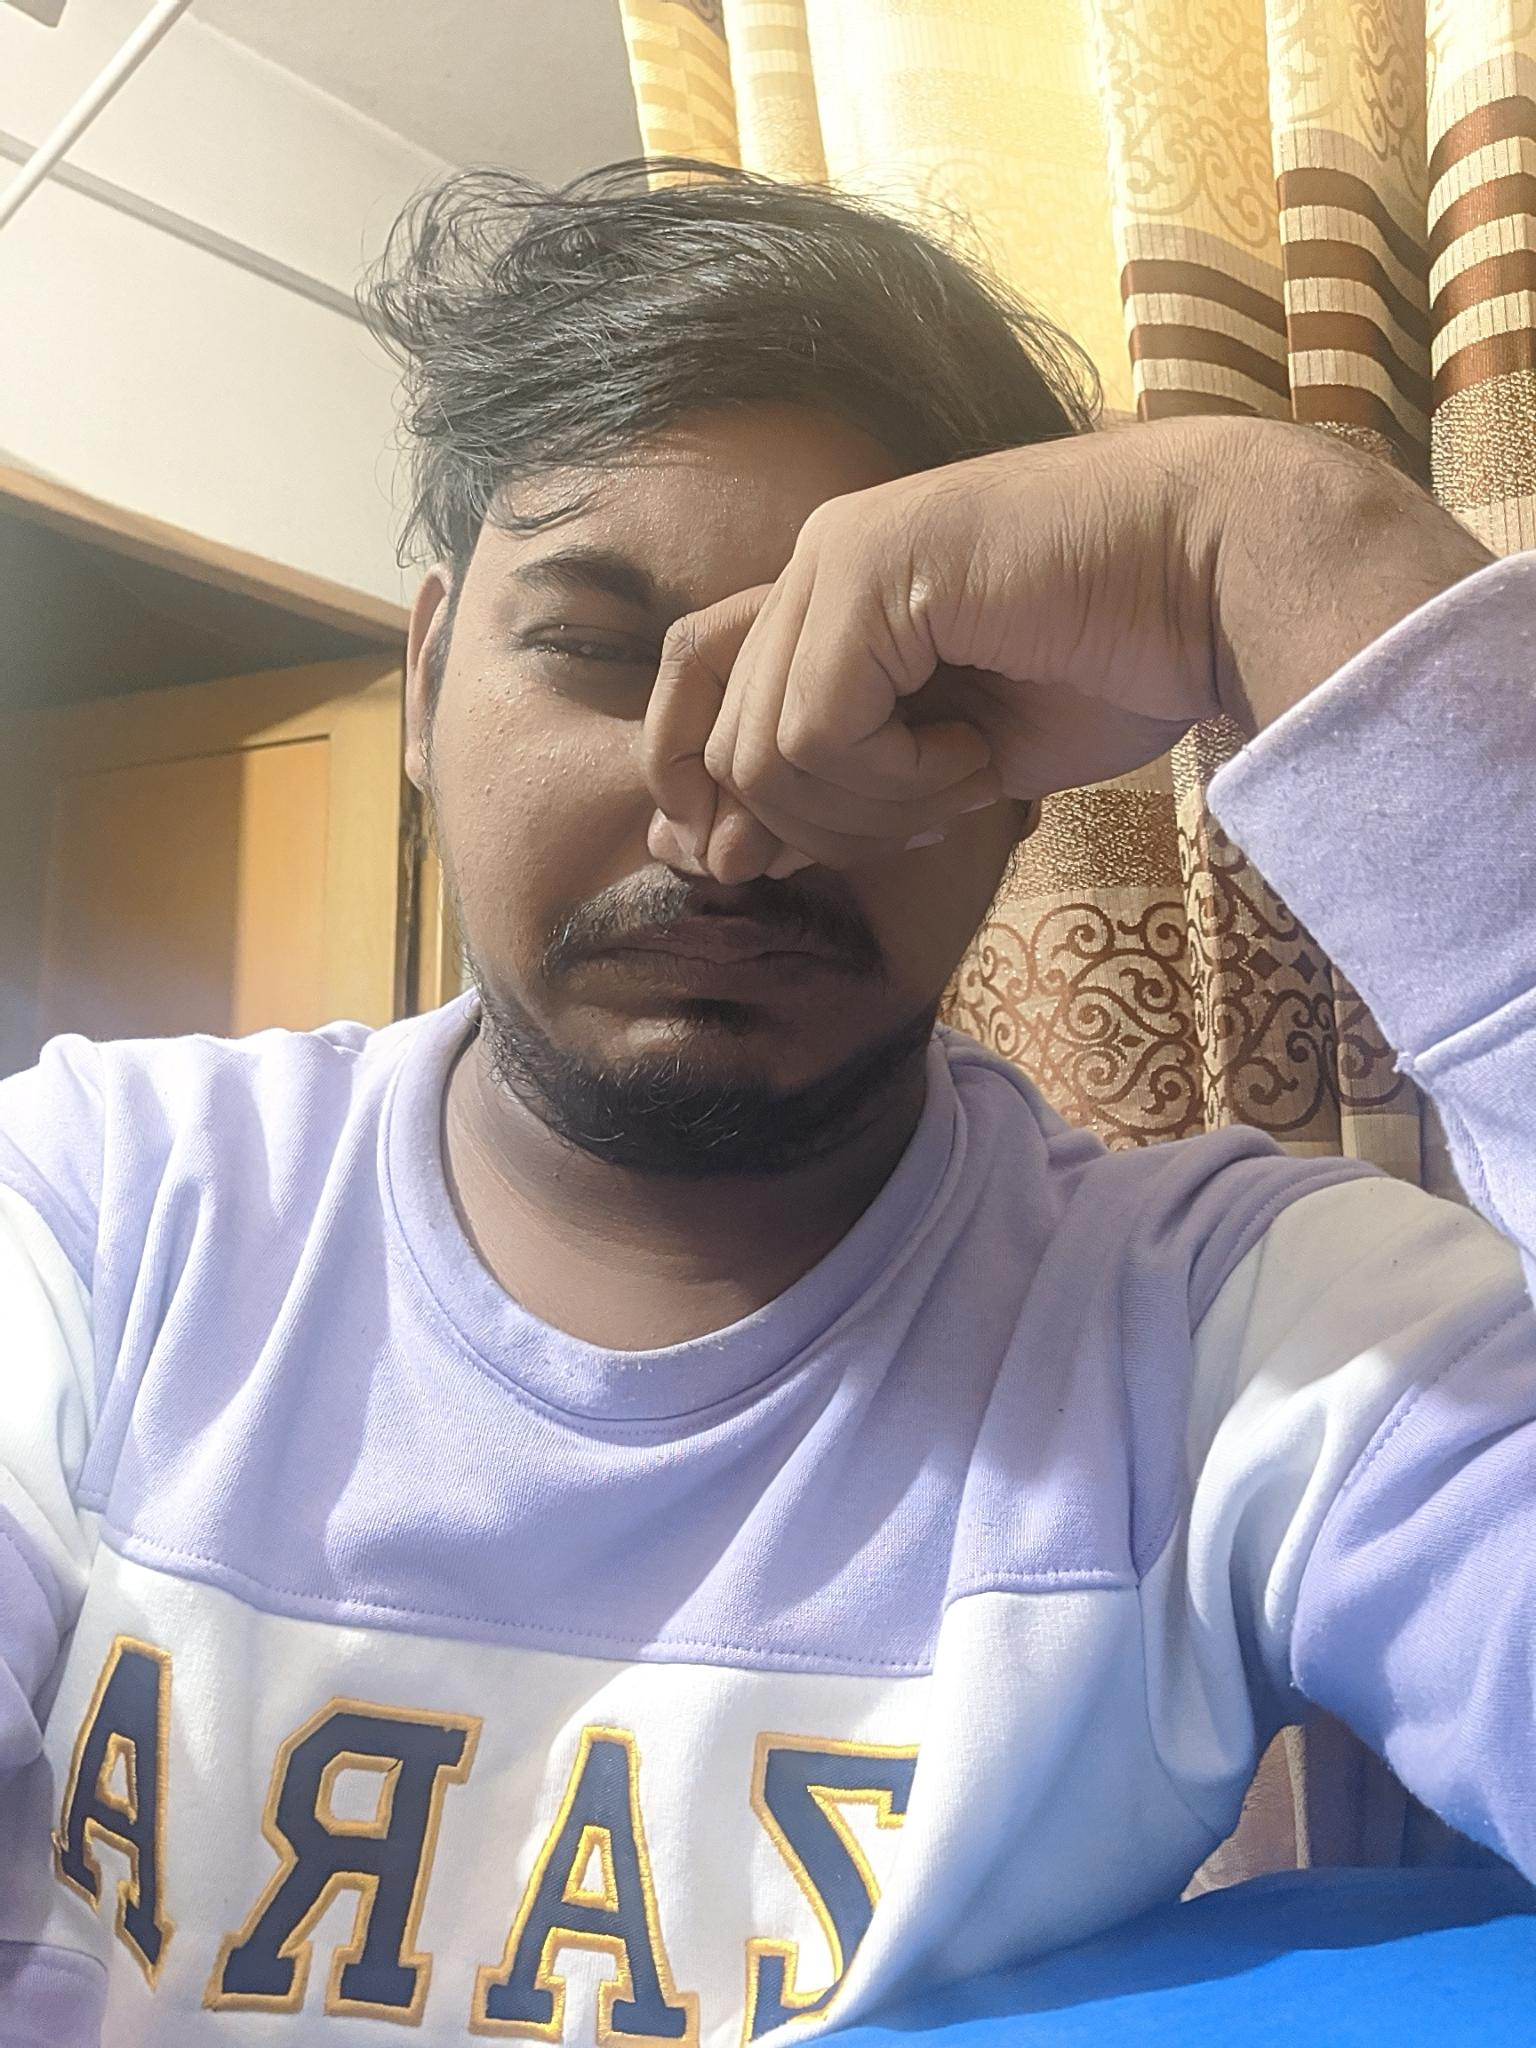Disgust: (450, 477, 1037, 1127)
